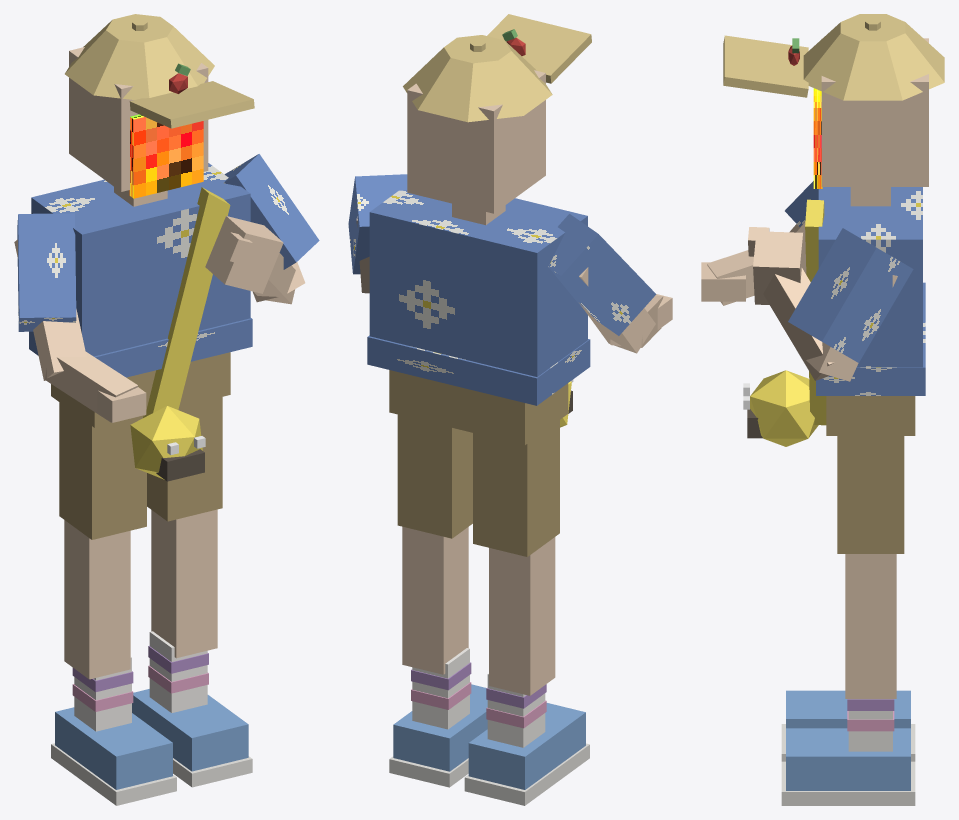
The model's file is wrenasmir.glb.
The picture shows the model from 3 angles, left to right: view 1: azimuth 30°, elevation 25°; view 2: azimuth 150°, elevation 25°; view 3: azimuth 270°, elevation 25°; orthographic projection. The views are drawn at different scales.
Visible parts, largest first — view 1: Torso, Shin.R, ShortLeg.R, Shin.L, CapCrown, Sleeve.R, OtamaNeck, Shoe.R, Head, Shoe.L, Face, ShortLeg.L (+20 smaller); view 2: Torso, Head, ShortLeg.R, Shin.R, Shin.L, CapCrown, ShortLeg.L, Hips, ShirtHem, Sleeve.R, Shoe.R, Shoe.L (+12 smaller); view 3: Head, Torso, CapCrown, Sleeve.L, ShortLeg.L, Shin.L, Shoe.L, CapBrim, OtamaBall, Hips, Shoe.R, ShirtHem (+13 smaller).
Part boxes in pixels (x1,y1,x2,y2): Torso: [31, 163, 250, 356]; Shin.R: [64, 520, 130, 679]; ShortLeg.R: [59, 402, 146, 539]; Shin.L: [151, 509, 217, 658]; CapCrown: [65, 14, 214, 99]; Sleeve.R: [17, 213, 76, 331]; OtamaNeck: [143, 187, 230, 417]; Shoe.R: [55, 707, 172, 789]; Head: [69, 47, 208, 191]; Shoe.L: [132, 689, 248, 771]; Face: [129, 114, 203, 198]; ShortLeg.L: [147, 397, 222, 521]; Torso: [369, 190, 587, 376]; Head: [407, 70, 545, 213]; ShortLeg.R: [473, 420, 559, 556]; Shin.R: [489, 537, 555, 695]; Shin.L: [402, 526, 468, 674]; CapCrown: [403, 35, 552, 122]; ShortLeg.L: [397, 414, 472, 538]; Hips: [389, 370, 568, 445]; ShirtHem: [367, 335, 590, 405]; Sleeve.R: [548, 214, 656, 335]; Shoe.R: [468, 703, 585, 789]; Shoe.L: [393, 684, 487, 771]; Head: [821, 38, 928, 186]; Torso: [818, 187, 922, 367]; CapCrown: [803, 14, 944, 100]; Sleeve.L: [788, 228, 913, 362]; ShortLeg.L: [837, 436, 904, 553]; Shin.L: [845, 554, 896, 698]; Shoe.L: [786, 728, 910, 790]; CapBrim: [723, 35, 808, 97]; OtamaBall: [750, 370, 818, 446]; Hips: [826, 396, 915, 435]; Shoe.R: [786, 690, 910, 728]; ShirtHem: [816, 282, 925, 395].
Bounding box in the file's own units: 0.8055 × 1.86 × 0.5456.
15 materials, 2 textured.
